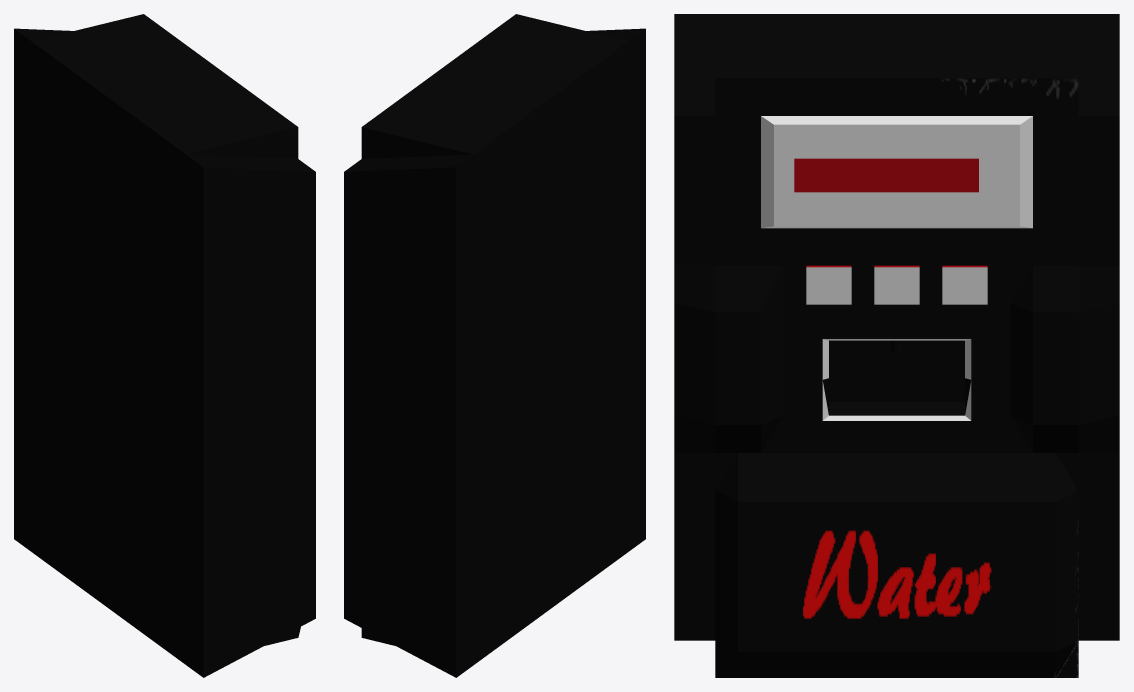
Rendered from Automat.fbx.
3 renders of one model, left to right at view 1: azimuth 30°, elevation 25°; view 2: azimuth 150°, elevation 25°; view 3: azimuth 270°, elevation 25°, orthographic. The views are drawn at different scales.
Visible parts, largest first — view 1: Cube; view 2: Cube; view 3: Cube.
Part boxes in pixels (bbox=[...]): Cube: bbox=[14, 14, 315, 677]; Cube: bbox=[344, 14, 645, 677]; Cube: bbox=[674, 14, 1119, 677].
Size of the model in its own units: 174 by 642 by 432.
